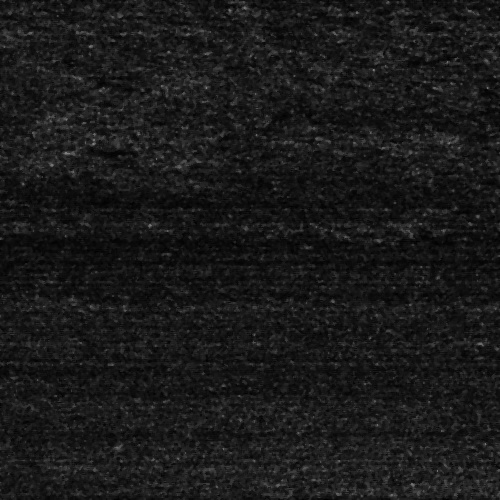object: (71, 146, 112, 151)
shadow: (92, 146, 161, 151)
